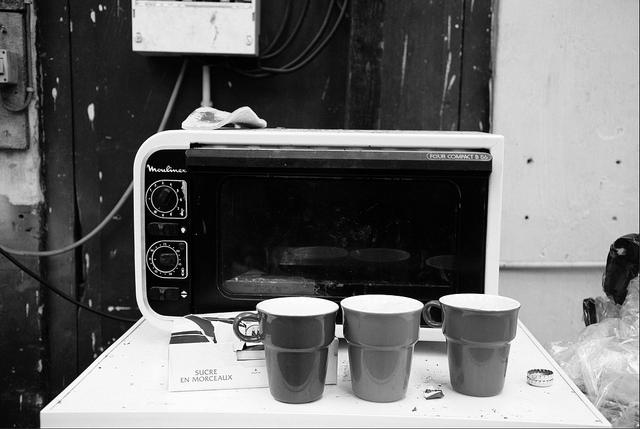glass: (341, 295, 422, 402), (258, 297, 337, 403), (440, 295, 519, 395)
